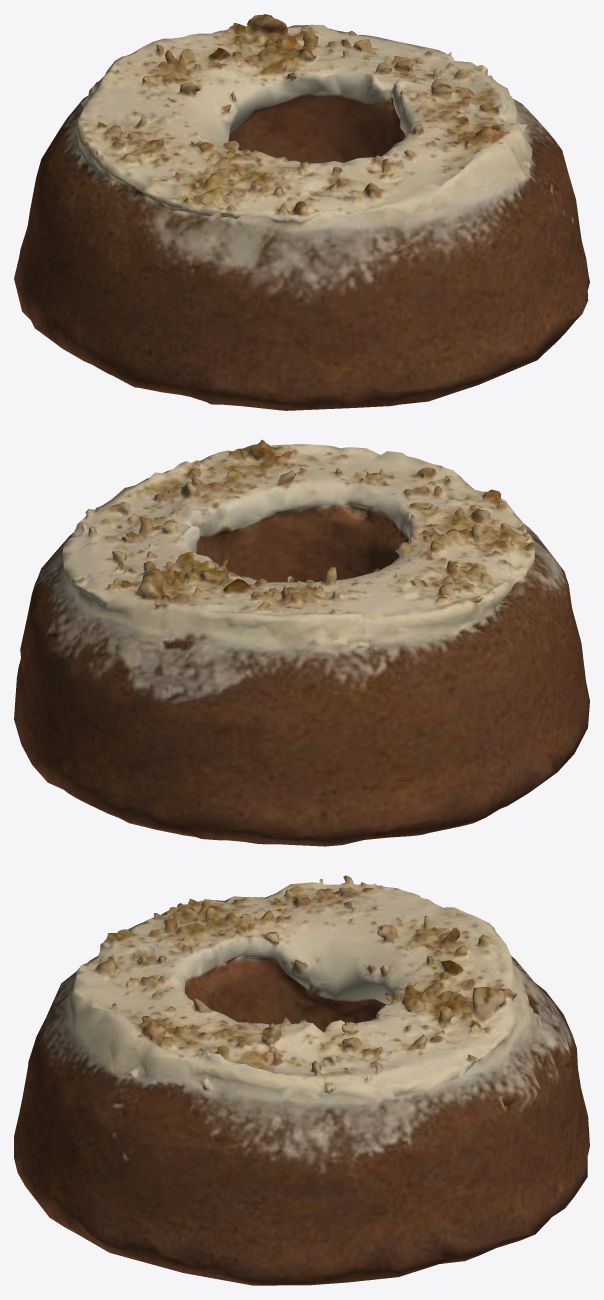
File: carrot_cake.glb
3 views of the same model, one above another, from view 1: azimuth 30°, elevation 25°; view 2: azimuth 150°, elevation 25°; view 3: azimuth 270°, elevation 25° (orthographic). The views are drawn at different scales.
Visible parts, largest first — view 1: carrot_cake; view 2: carrot_cake; view 3: carrot_cake.
Part boxes in pixels (x1,y1,x2,y2): carrot_cake: (14, 14, 589, 410); carrot_cake: (14, 439, 589, 846); carrot_cake: (14, 875, 589, 1285).
Size of the model in its own units: 0.2254 by 0.0976 by 0.2254.
Materials: 1 (1 with a texture image).
